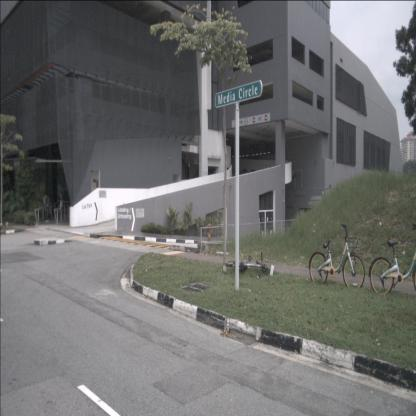human-pedestrian-adult: (43, 192, 50, 223), (58, 194, 64, 226)
vehicle-bicycle: (308, 223, 366, 290), (368, 222, 416, 297), (224, 251, 275, 279)
